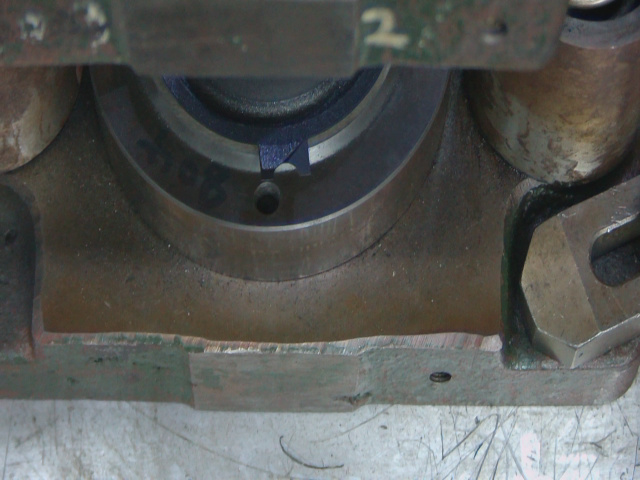NG: (260, 139, 320, 189)
